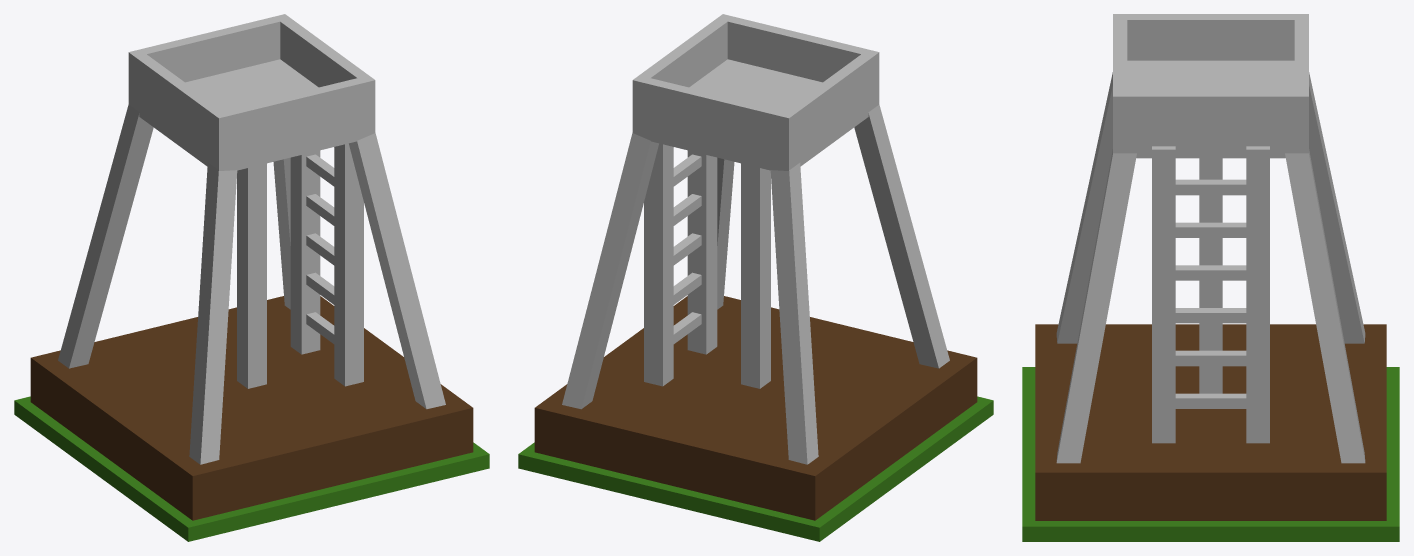
File: lvl18.glb
3 views of the same model, side by side, from view 1: azimuth 30°, elevation 25°; view 2: azimuth 150°, elevation 25°; view 3: azimuth 270°, elevation 25° (orthographic). The views are drawn at different scales.
Visible parts, largest first — view 1: Plane.017; view 2: Plane.017; view 3: Plane.017.
Boxes of the visible parts, x1,y1,x2,y2 form: Plane.017: (14, 14, 489, 541); Plane.017: (518, 14, 993, 541); Plane.017: (1022, 14, 1399, 541).
Bounding box in the file's own units: 4 × 4.76 × 4.
